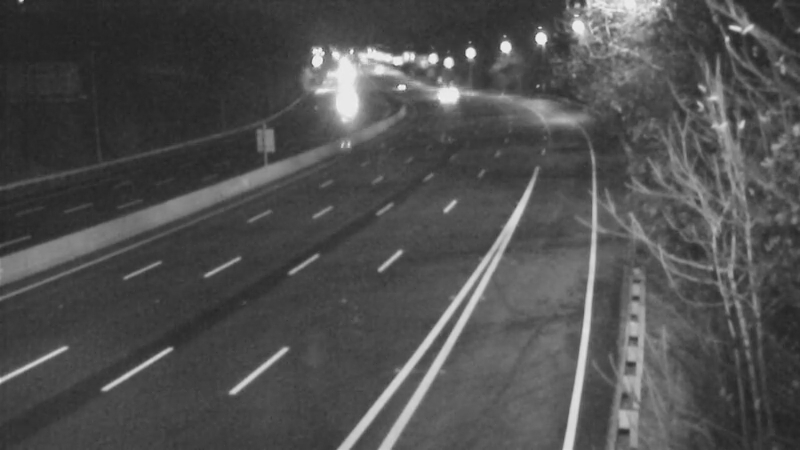vehicle: (372, 59, 422, 109), (412, 67, 462, 117), (322, 79, 372, 129)
